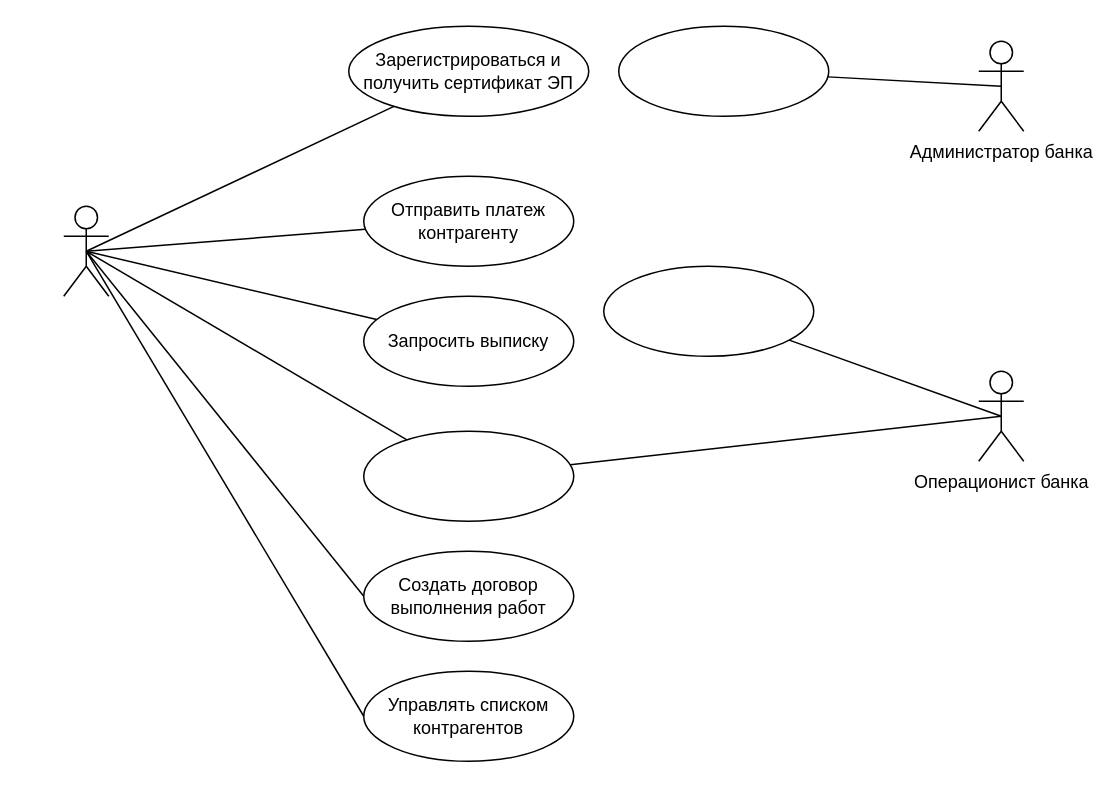
The diagram is 1119 pixels wide and 788 high, and some of its shapes have lost their labels. The centre of each missing label's shape, as x and y in pixels:
"Акцептовать платеж" belongs at point (708, 310).
"Вести переписку с банком" belongs at point (468, 475).
"Зарегистрировать сотрудника ЮЛ" belongs at point (723, 70).
"Сотрудник ЮЛ" belongs at point (85, 250).
